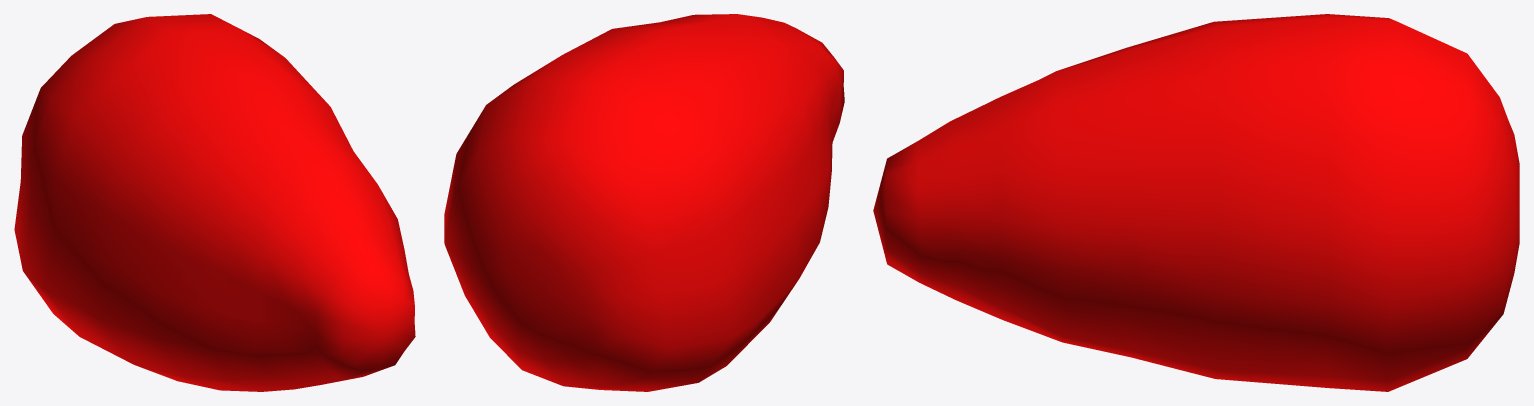
The model's file is lettuce.fbx.
3 views of the same model, side by side, from view 1: azimuth 30°, elevation 25°; view 2: azimuth 150°, elevation 25°; view 3: azimuth 270°, elevation 25° (orthographic). The views are drawn at different scales.
Visible parts, largest first — view 1: lettuce_a1; view 2: lettuce_a1; view 3: lettuce_a1.
Boxes of the visible parts, x1,y1,x2,y2 form: lettuce_a1: (14,14,415,391); lettuce_a1: (444,14,844,391); lettuce_a1: (873,14,1519,391).
Bounding box in the file's own units: 1434 × 1494 × 2440.
